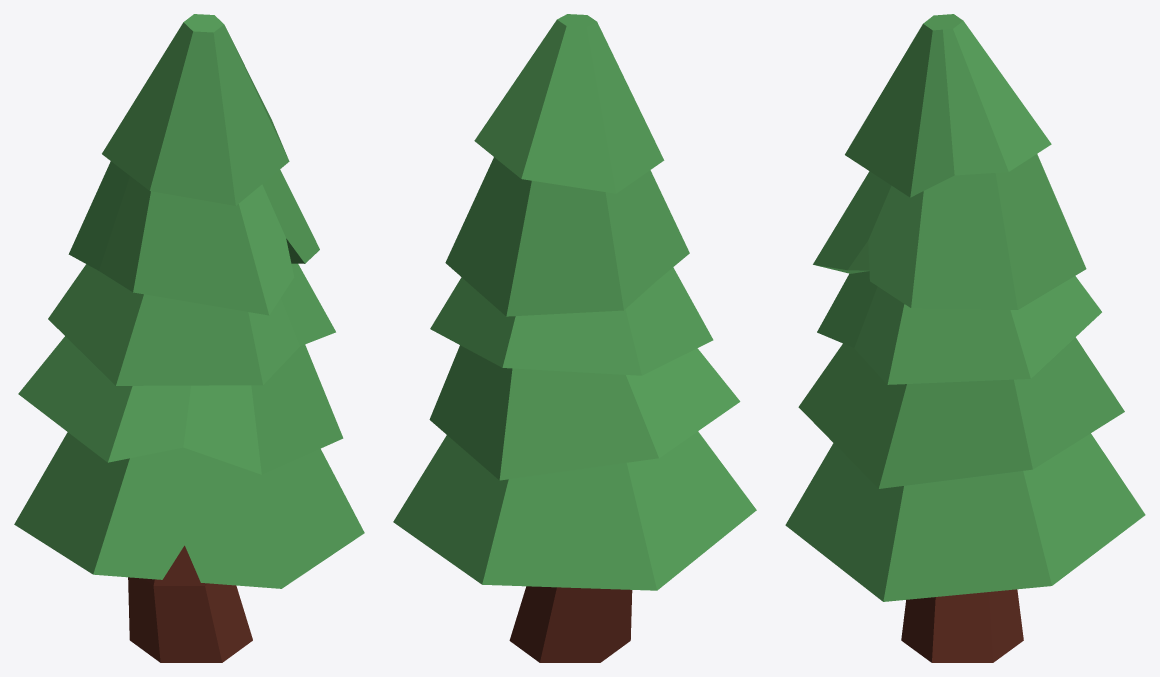
File: Tree4WithColour.fbx
The picture shows the model from 3 angles, left to right: view 1: azimuth 30°, elevation 25°; view 2: azimuth 150°, elevation 25°; view 3: azimuth 270°, elevation 25°; orthographic projection.
Parts seen in each view (by area): view 1: Leaves.4, TreeTrunk.4; view 2: Leaves.4, TreeTrunk.4; view 3: Leaves.4, TreeTrunk.4.
Part boxes in pixels (bbox=[...]): Leaves.4: bbox=[14, 14, 364, 588]; TreeTrunk.4: bbox=[128, 545, 252, 662]; Leaves.4: bbox=[393, 14, 756, 590]; TreeTrunk.4: bbox=[509, 586, 632, 662]; Leaves.4: bbox=[785, 14, 1145, 601]; TreeTrunk.4: bbox=[901, 589, 1023, 662].
Size of the model in its own units: 393 by 841 by 442.
